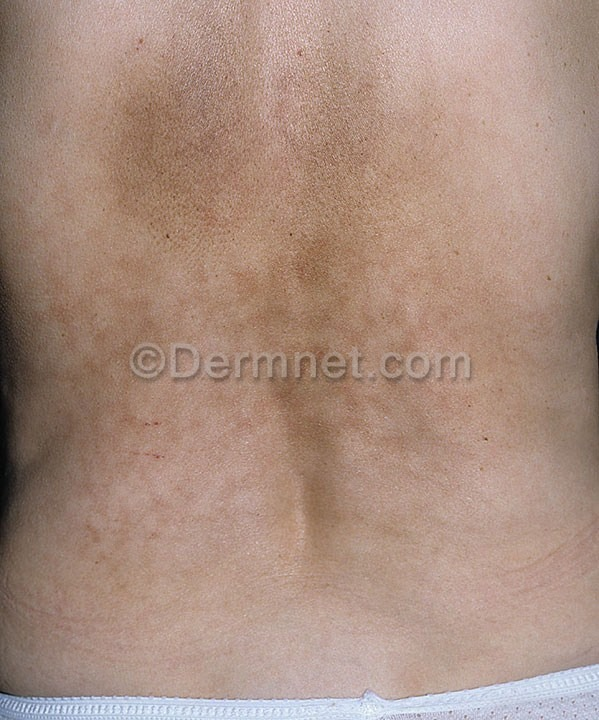Melasma: (103, 51, 500, 329), (181, 393, 485, 505)
